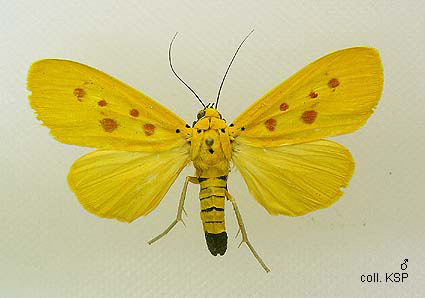Agape chloropyga: (17, 27, 389, 275)
moth: (19, 29, 391, 277)
